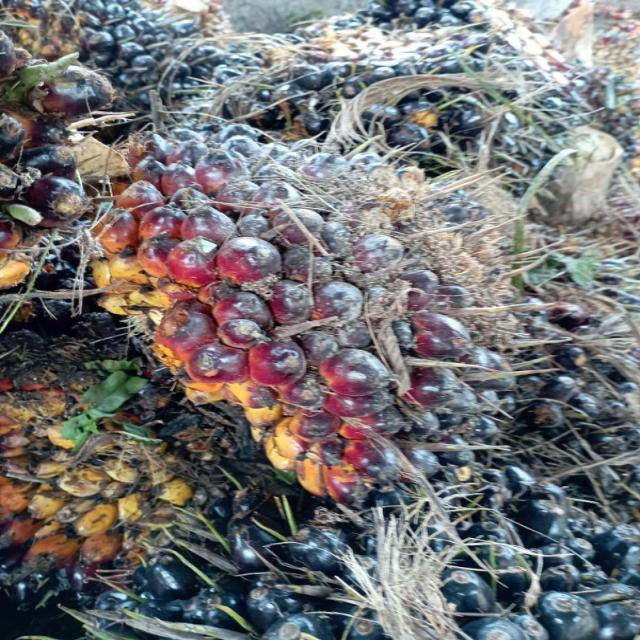fraksi 00: (232, 0, 574, 149)
fraksi 1: (80, 114, 482, 504)
